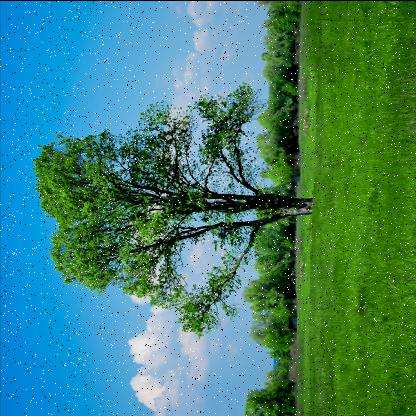Tree: (33, 90, 309, 336), (245, 274, 302, 316), (240, 376, 298, 414), (247, 316, 300, 352), (256, 100, 300, 136), (252, 242, 296, 276), (258, 134, 298, 166), (254, 219, 304, 242), (264, 3, 300, 34), (256, 182, 302, 206), (262, 76, 300, 102), (262, 33, 297, 61), (260, 160, 304, 182), (259, 58, 297, 78), (265, 360, 292, 386), (266, 349, 294, 363)
